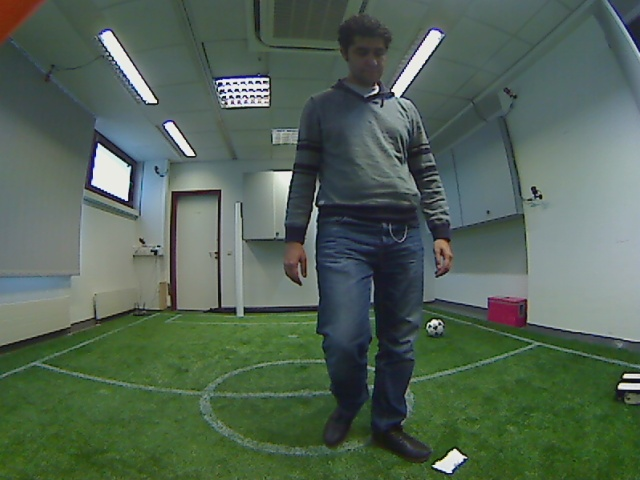ball: (421, 314, 449, 340)
